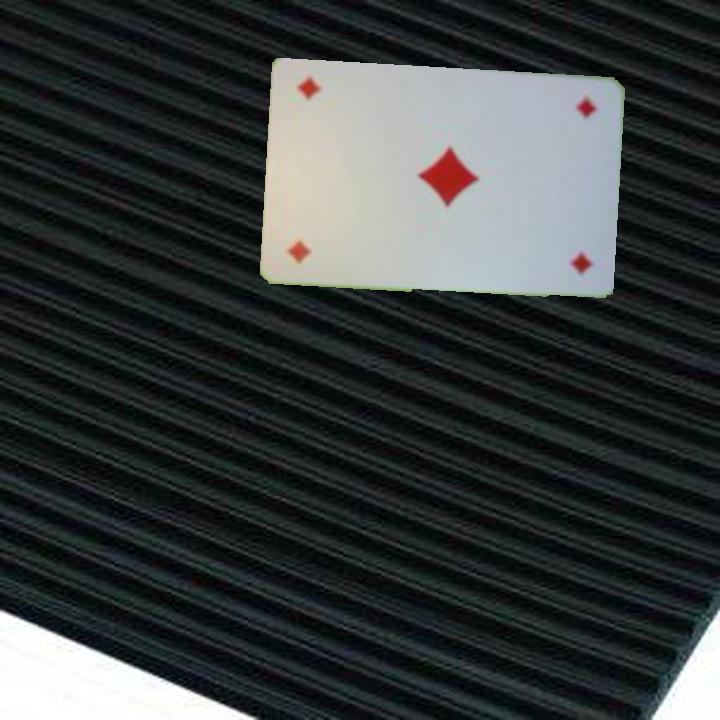d_a.png: (517, 88, 608, 192), (276, 168, 367, 272)
